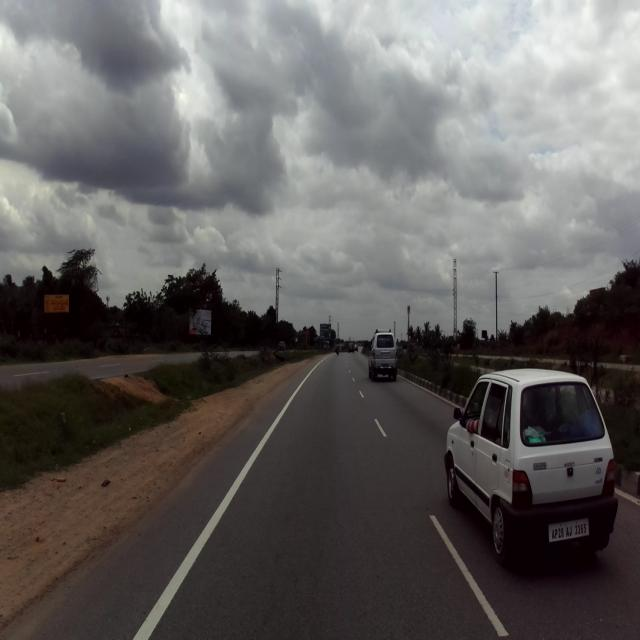car: (443, 366, 617, 570), (368, 328, 397, 382)
